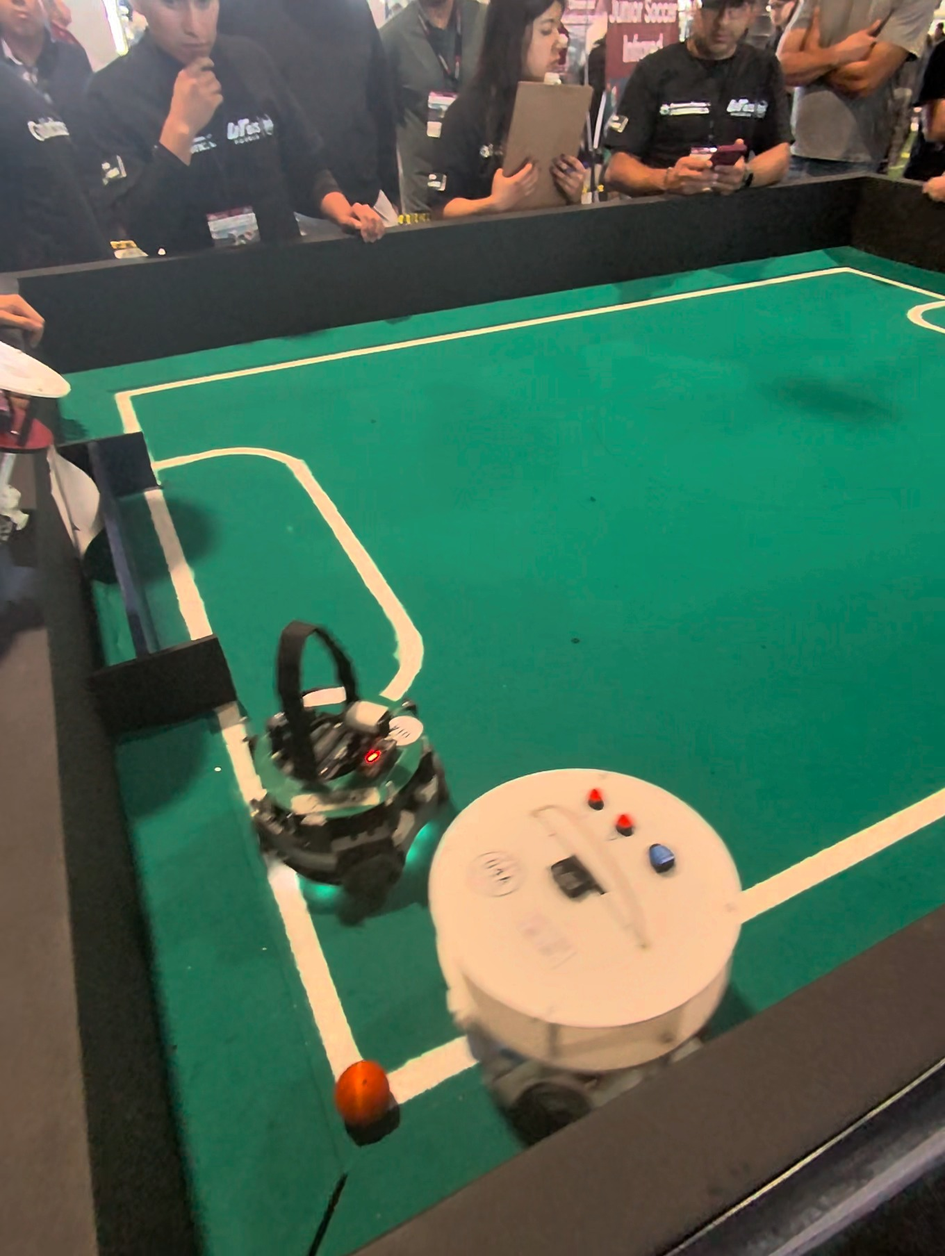Robot: (450, 738, 749, 1079), (229, 588, 461, 926)
pelota: (334, 1056, 399, 1145)
